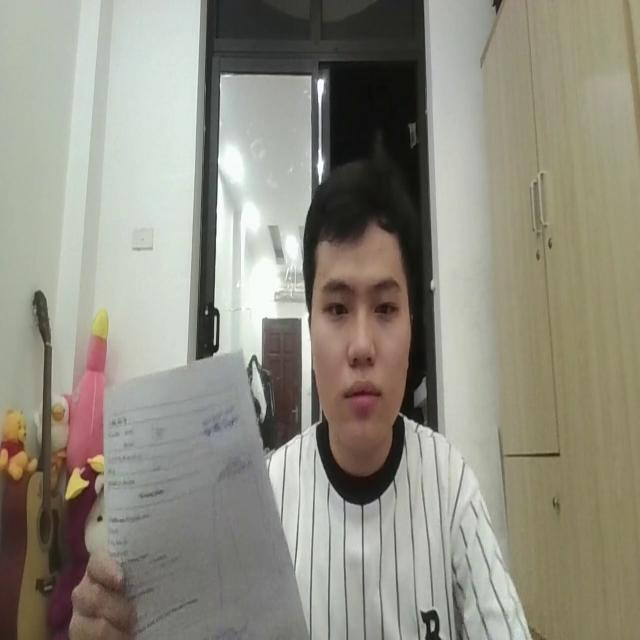book: (103, 344, 310, 640)
student: (253, 153, 534, 640)
